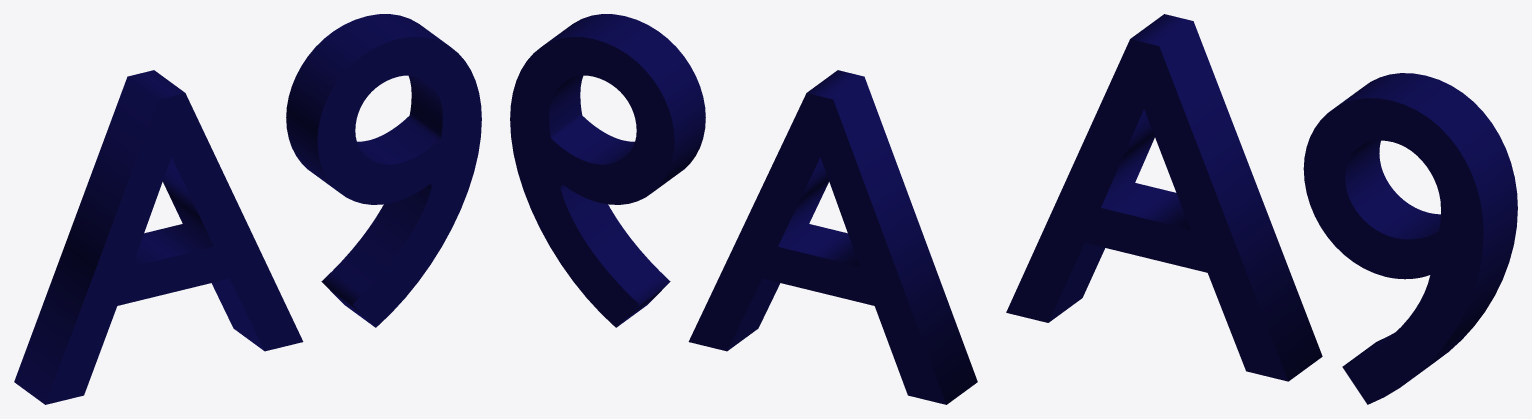
3 views of the same model, side by side, from view 1: azimuth 30°, elevation 25°; view 2: azimuth 150°, elevation 25°; view 3: azimuth 330°, elevation 25° (orthographic). The views are drawn at different scales.
Parts seen in each view (by area): view 1: Text; view 2: Text; view 3: Text.
Boxes of the visible parts, bbox=[...] form: Text: bbox=[14, 14, 481, 404]; Text: bbox=[510, 14, 977, 404]; Text: bbox=[1006, 14, 1517, 404].
Size of the model in its own units: 113 by 70 by 14.
